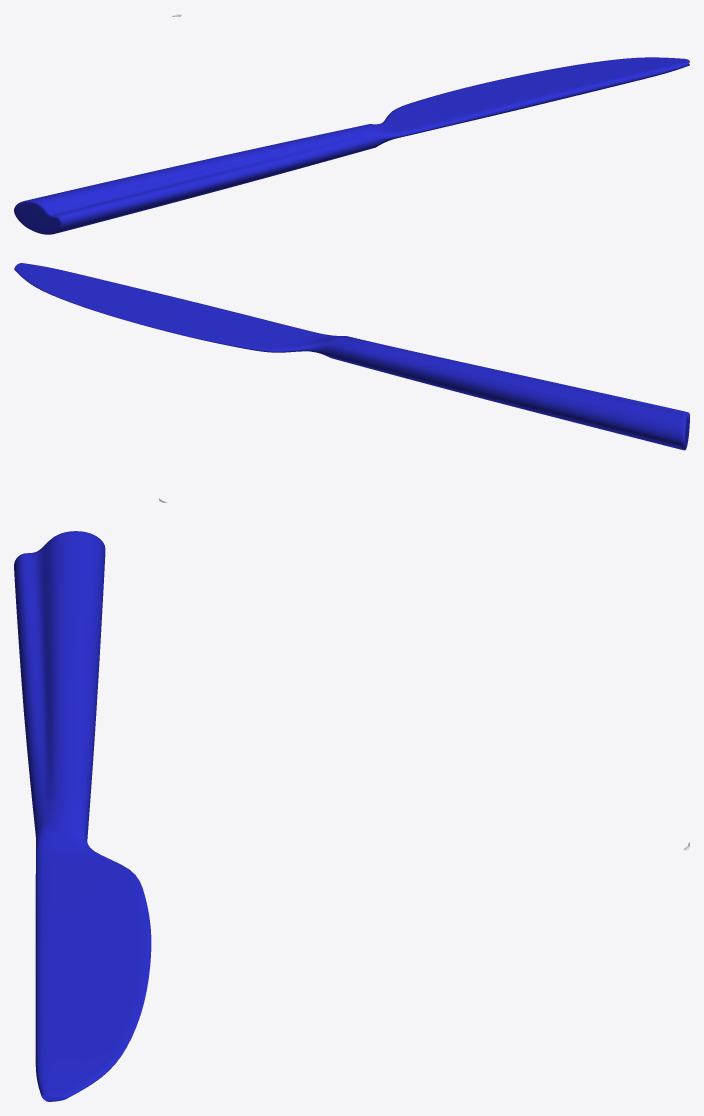
File: knife_blue_plastic.dae
3 views of the same model, one above another, from view 1: azimuth 30°, elevation 25°; view 2: azimuth 150°, elevation 25°; view 3: azimuth 270°, elevation 25° (orthographic). The views are drawn at different scales.
Visible parts, largest first — view 1: group_0; view 2: group_0; view 3: group_0.
Part boxes in pixels (x1,y1,x2,y2): group_0: (14,57,689,234); group_0: (14,263,689,450); group_0: (14,531,151,1101).
Size of the model in its own units: 0.2281 by 0.1188 by 0.01.
